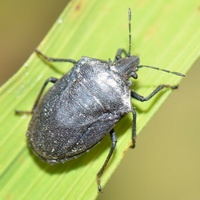insect: (27, 56, 138, 162), (38, 1, 130, 57), (132, 1, 199, 72), (132, 89, 170, 143), (102, 115, 129, 183), (132, 69, 180, 100), (40, 165, 79, 188)
